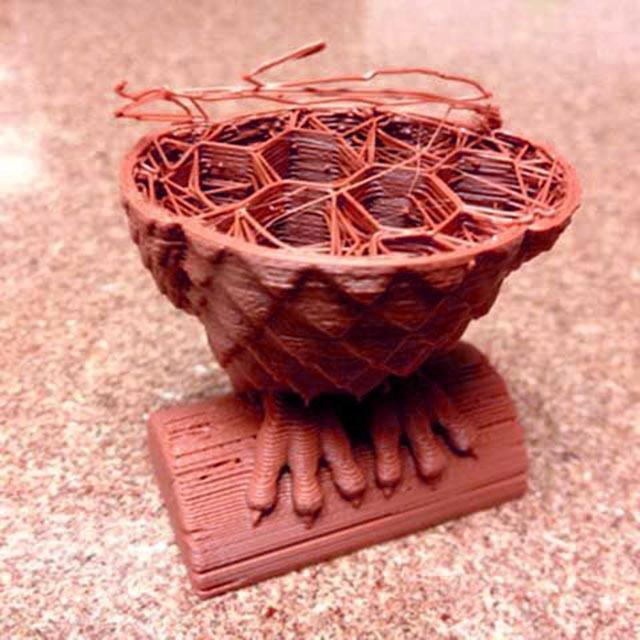Spaghetti: (109, 36, 504, 150)
